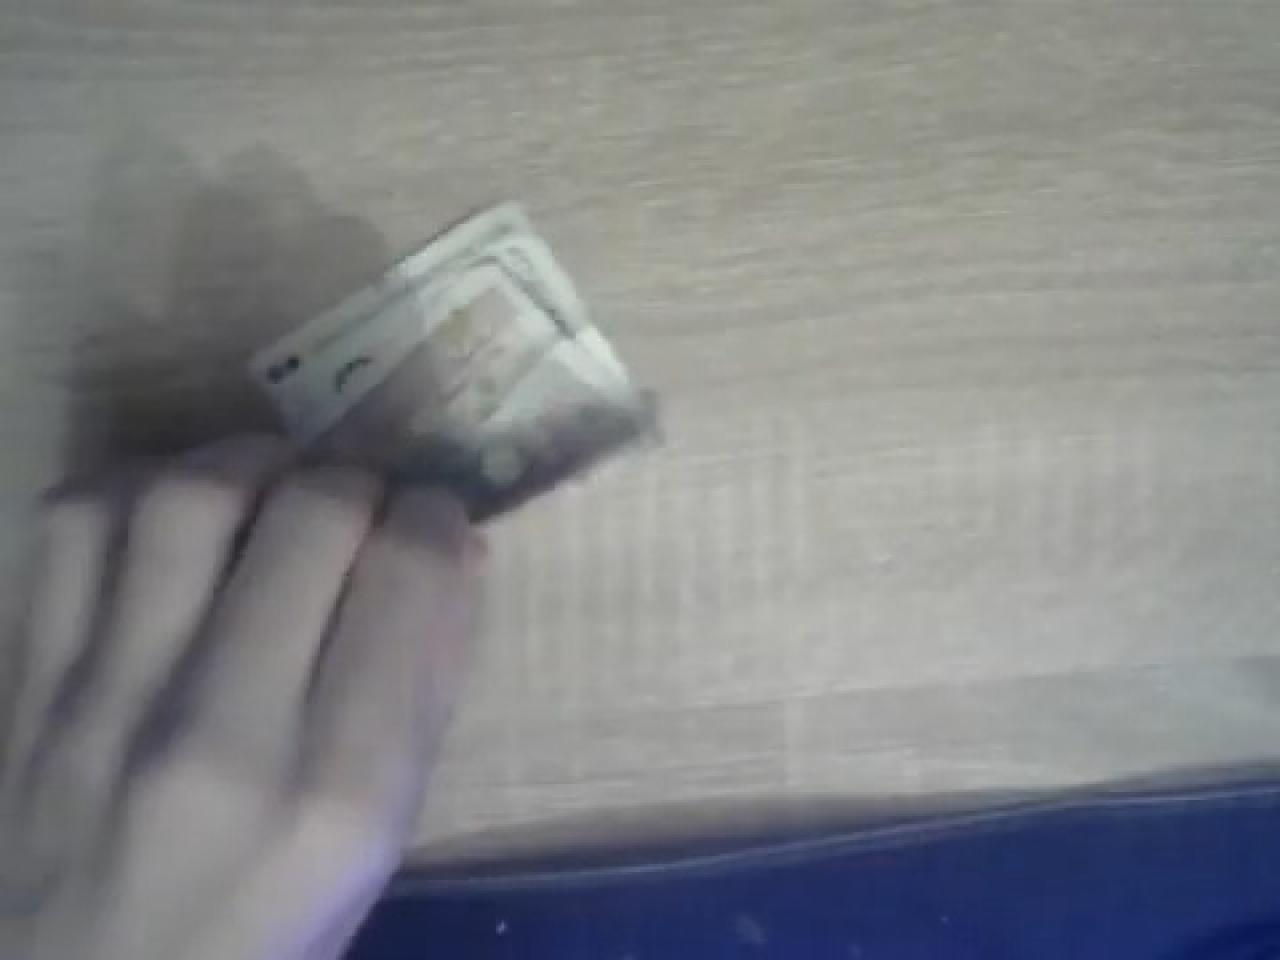10leva: (243, 200, 664, 536)
